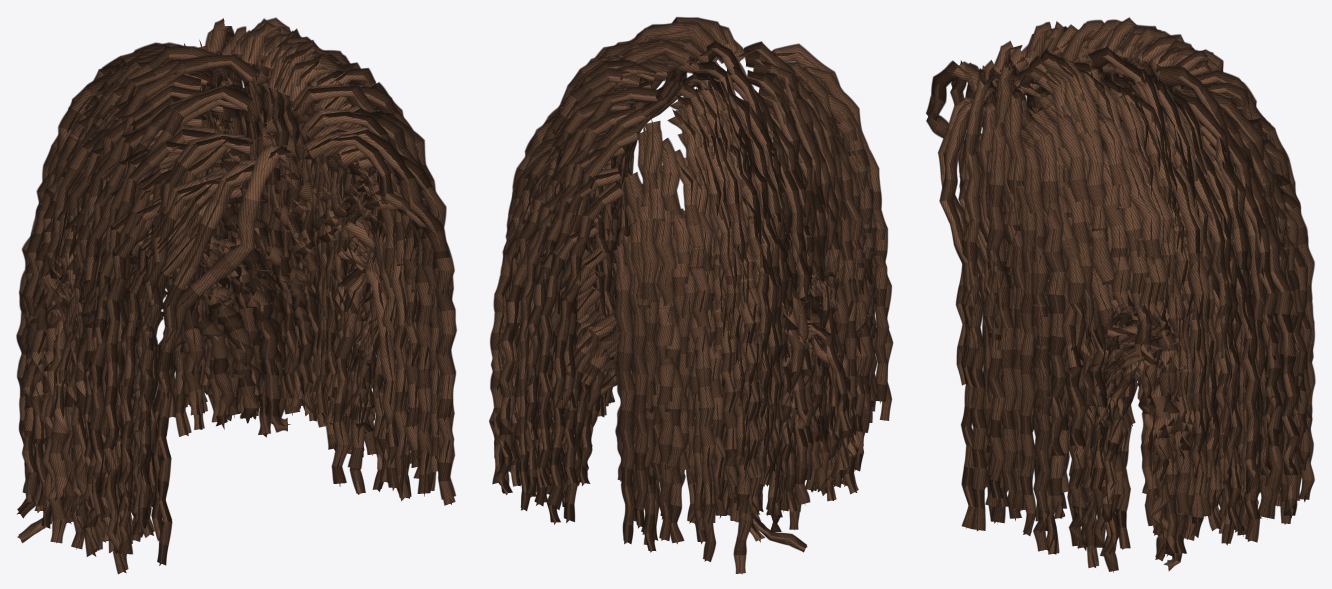
Rendered from locks.glb.
3 renders of one model, left to right at view 1: azimuth 30°, elevation 25°; view 2: azimuth 150°, elevation 25°; view 3: azimuth 270°, elevation 25°, orthographic. The views are drawn at different scales.
Parts seen in each view (by area): view 1: MH_coiffure_locks; view 2: MH_coiffure_locks; view 3: MH_coiffure_locks.
Part boxes in pixels (box(x1,y1,x2,y2)): MH_coiffure_locks: box(16, 17, 456, 574); MH_coiffure_locks: box(489, 17, 893, 574); MH_coiffure_locks: box(926, 17, 1315, 572).
Bounding box in the file's own units: 0.2187 × 0.2866 × 0.2133.
Materials: 1 (1 with a texture image).
